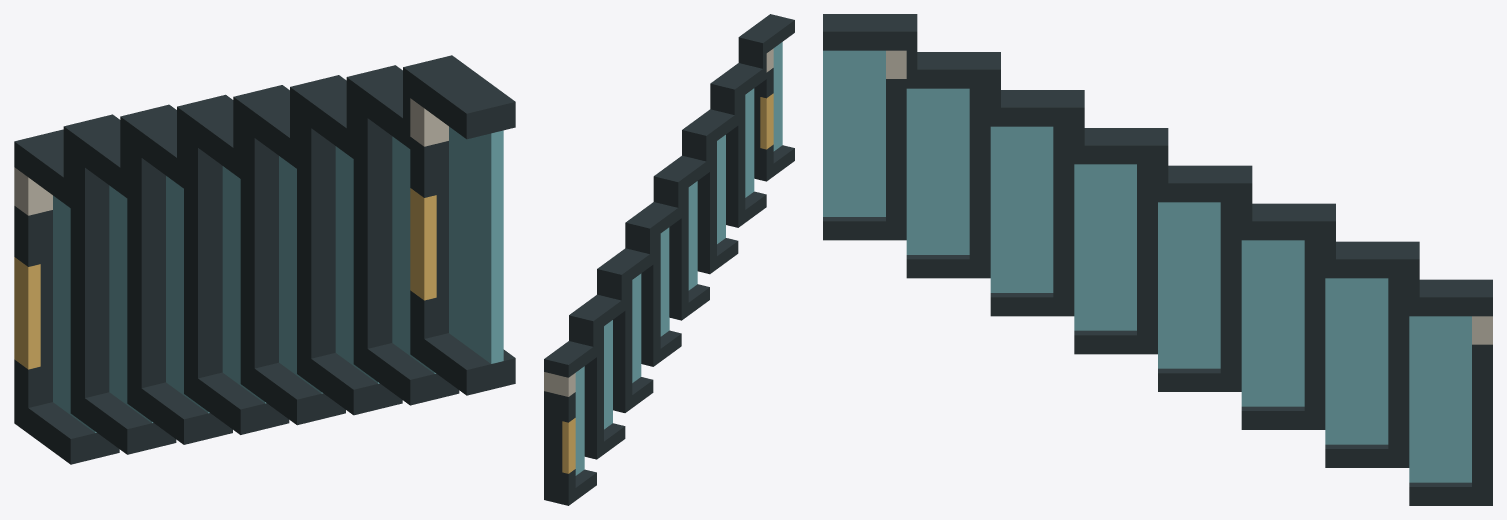
3 renders of one model, left to right at view 1: azimuth 30°, elevation 25°; view 2: azimuth 150°, elevation 25°; view 3: azimuth 270°, elevation 25°, orthographic. The views are drawn at different scales.
Parts seen in each view (by area): view 1: 共享双跑楼梯扶手与井边防护; view 2: 共享双跑楼梯扶手与井边防护; view 3: 共享双跑楼梯扶手与井边防护.
Boxes of the visible parts, box(x1,y1,x2,y2) form: 共享双跑楼梯扶手与井边防护: box(14, 55, 515, 464); 共享双跑楼梯扶手与井边防护: box(544, 14, 794, 505); 共享双跑楼梯扶手与井边防护: box(823, 14, 1492, 505).
Bounding box in the file's own units: 0.2 × 2.5 × 3.2.
Materials: 4 (4 with a texture image).
